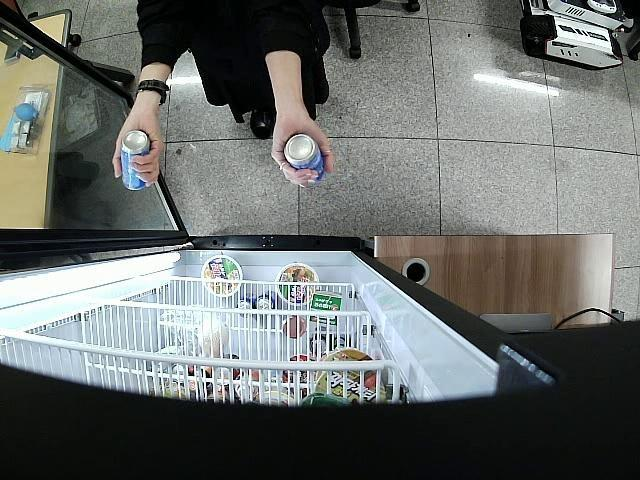15_letsbe: (118, 129, 154, 191), (284, 134, 324, 184)
